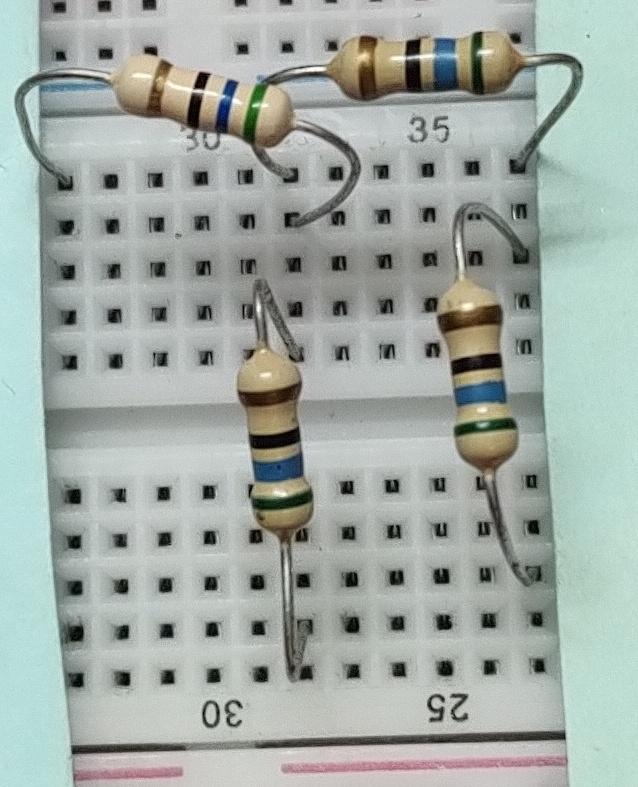resistor: (217, 344, 333, 545), (430, 274, 530, 486), (102, 49, 293, 149), (324, 29, 529, 96)
